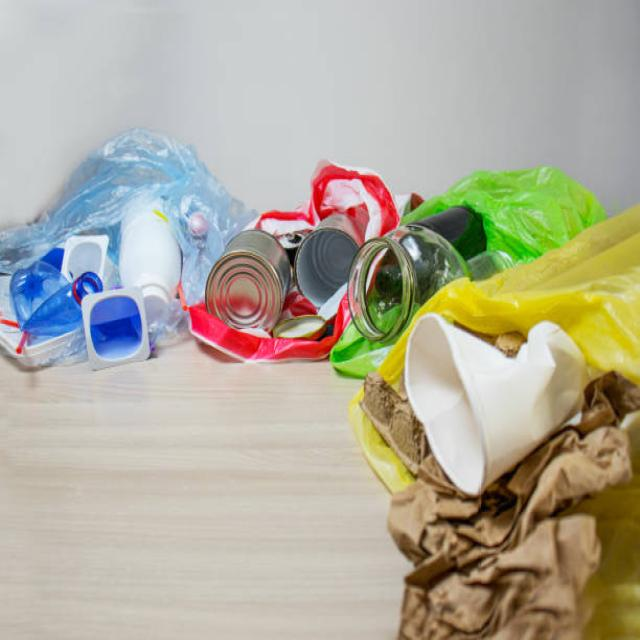cardboard: (400, 316, 591, 461)
metal: (207, 213, 355, 333)
paper: (402, 487, 612, 635)
plastic: (13, 220, 183, 368)
